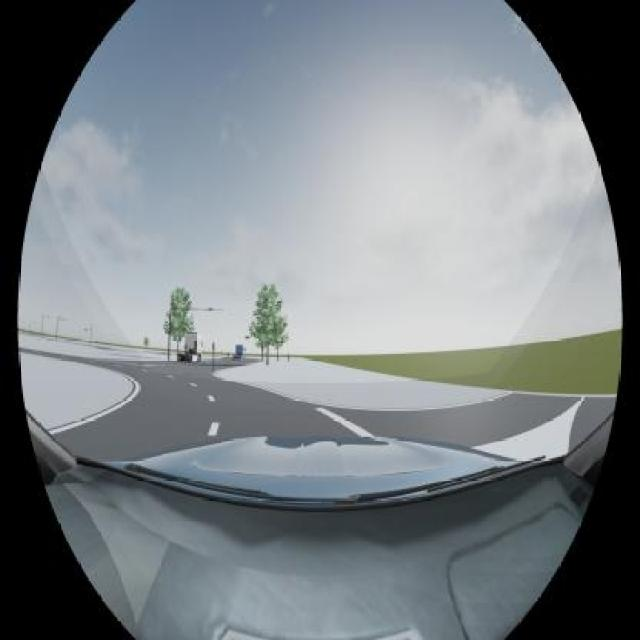forb_speed_over_60: (184, 345, 187, 349)
